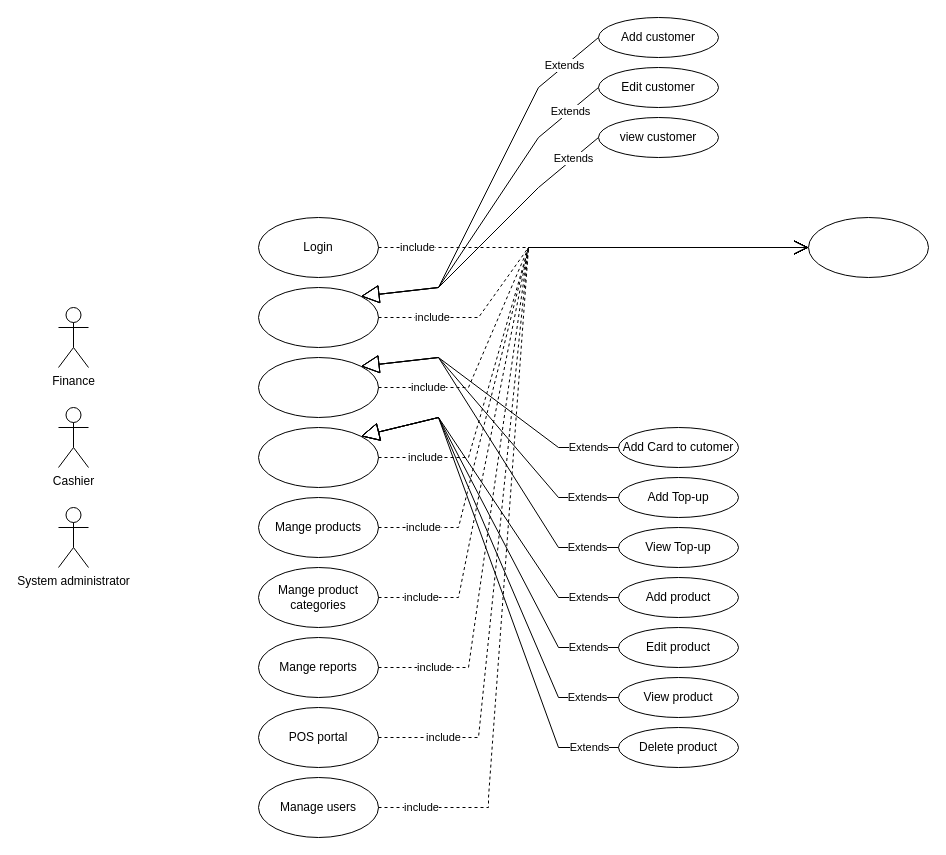
Image size: 946x855. Some labels were removed from this diagram. Each missing label, with the centre of its shape:
"Authentication" belongs at point 868,247.
"Mange customers" belongs at point 318,317.
"Mange top-up bundles" belongs at point 318,457.
"Mange top-ups" belongs at point 318,387.
